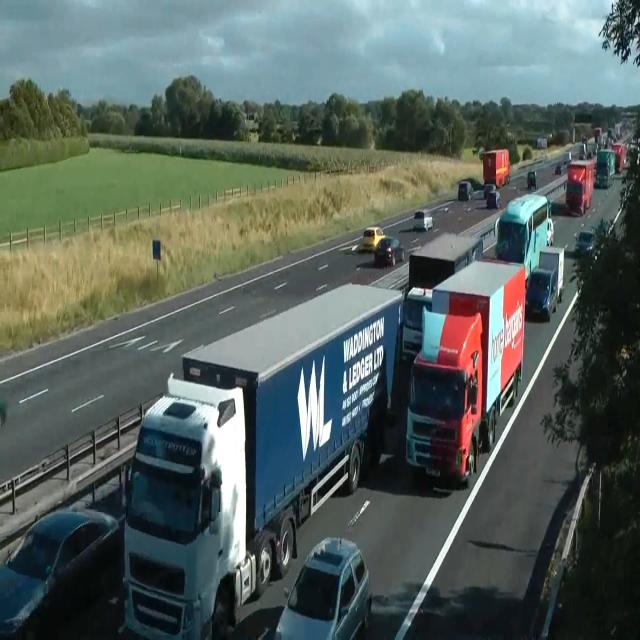bus: (274, 536, 372, 639), (374, 236, 404, 266), (574, 225, 597, 258), (362, 226, 386, 250), (413, 209, 433, 231), (597, 218, 614, 237), (458, 180, 473, 201), (486, 189, 500, 209), (483, 183, 496, 198), (0, 399, 6, 425), (564, 150, 572, 164), (554, 164, 562, 174)
jeep: (0, 505, 120, 636)
minibus: (120, 281, 404, 638), (405, 257, 526, 488), (401, 231, 484, 363), (494, 193, 554, 285), (525, 245, 565, 321), (565, 160, 595, 215), (482, 148, 510, 188), (593, 150, 616, 188), (612, 143, 624, 173), (527, 170, 537, 190), (537, 138, 547, 148)
